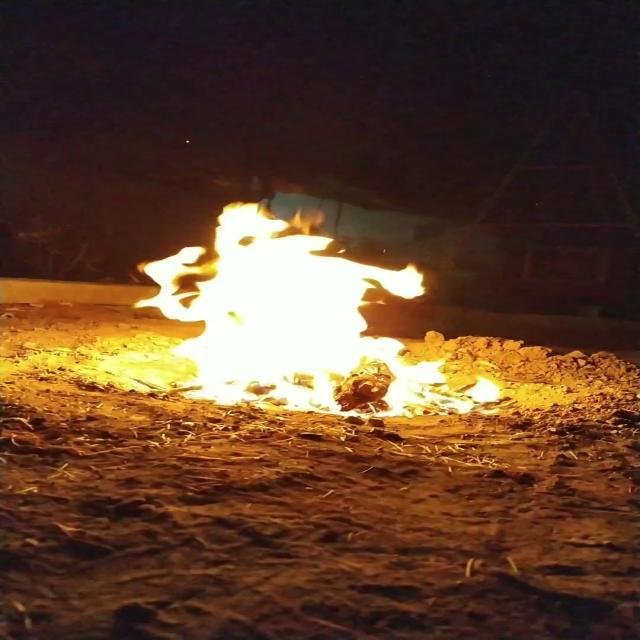Fire: (110, 196, 484, 412)
